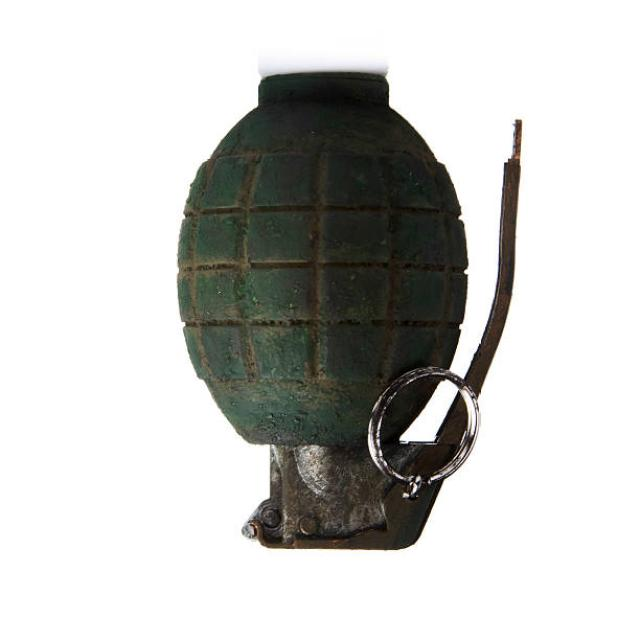grenade: (174, 66, 535, 558)
